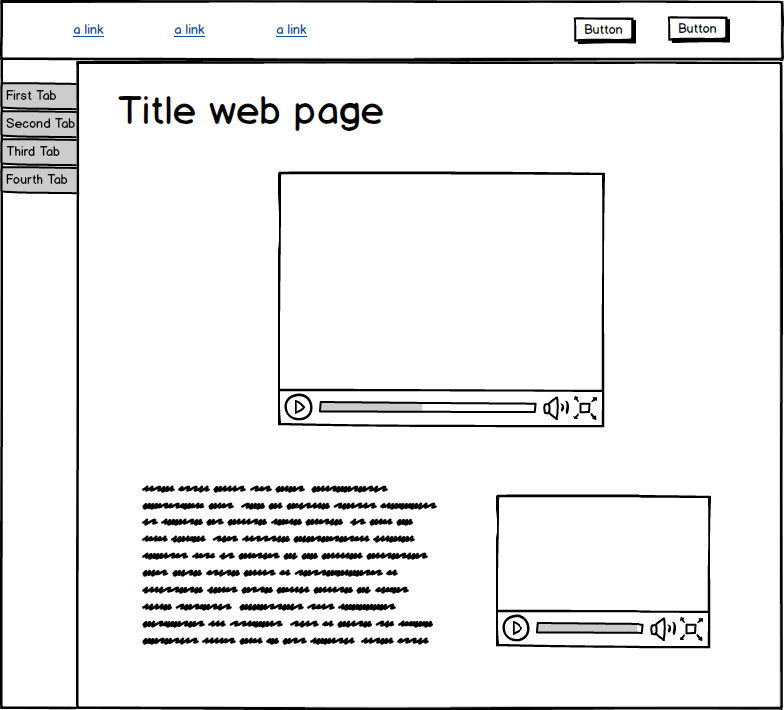button: (569, 10, 640, 49), (663, 10, 733, 48)
h1: (115, 87, 396, 138)
navlink: (267, 17, 317, 45), (65, 19, 112, 42), (168, 18, 211, 42)
p: (137, 475, 468, 654)
sidebar: (1, 76, 80, 203)
video: (269, 163, 610, 437), (486, 492, 720, 655)
